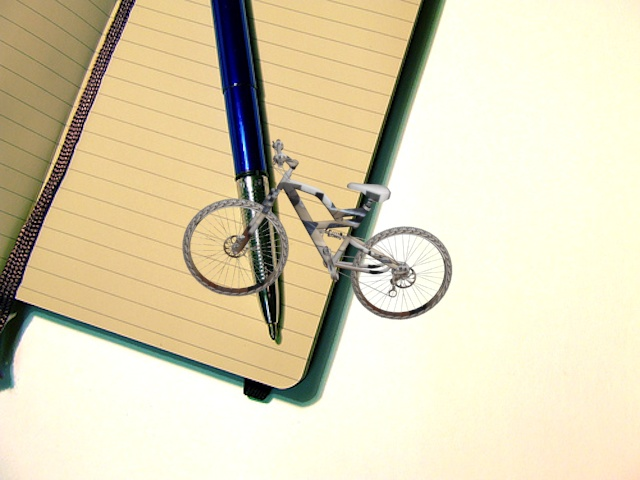bike: (176, 137, 464, 322)
